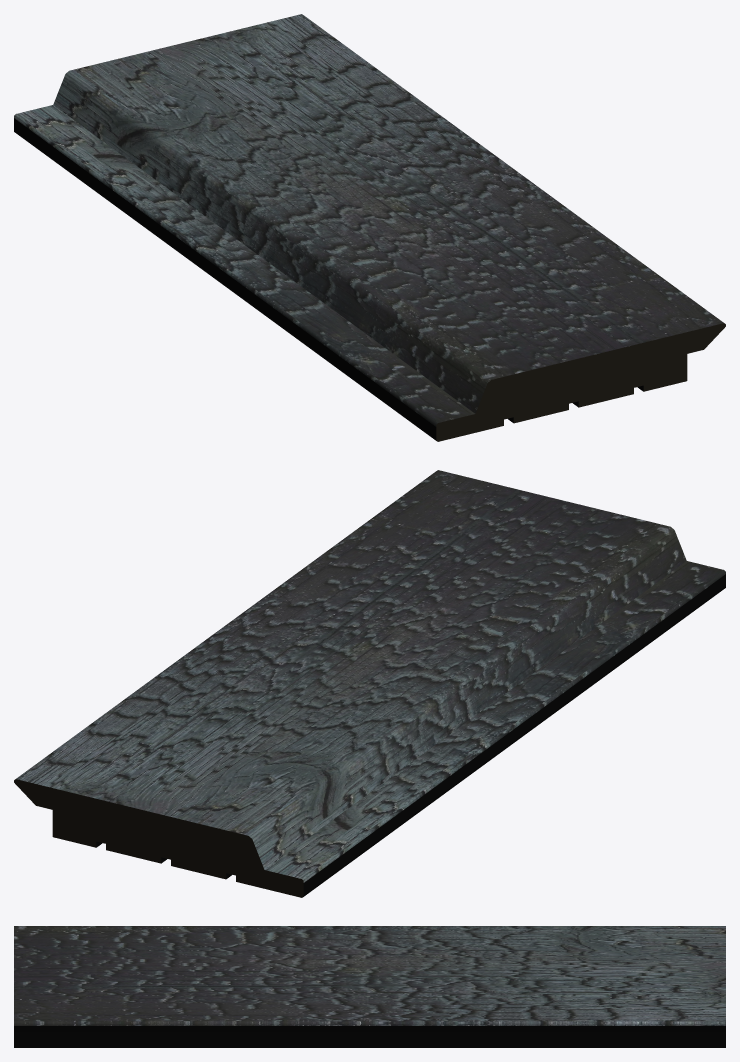
Rendered from thermo-facade-half-tongue-45-carbon.glb.
3 views of the same model, one above another, from view 1: azimuth 30°, elevation 25°; view 2: azimuth 150°, elevation 25°; view 3: azimuth 270°, elevation 25° (orthographic). The views are drawn at different scales.
Parts seen in each view (by area): view 1: Pusė_Špunto_45; view 2: Pusė_Špunto_45; view 3: Pusė_Špunto_45.
Part boxes in pixels (box(x1,y1,x2,y2)): Pusė_Špunto_45: box(14, 14, 725, 441); Pusė_Špunto_45: box(14, 470, 725, 897); Pusė_Špunto_45: box(14, 926, 725, 1047).
Bounding box in the file's own units: 0.0723 × 0.0117 × 0.1826.
Materials: 3 (1 with a texture image).
